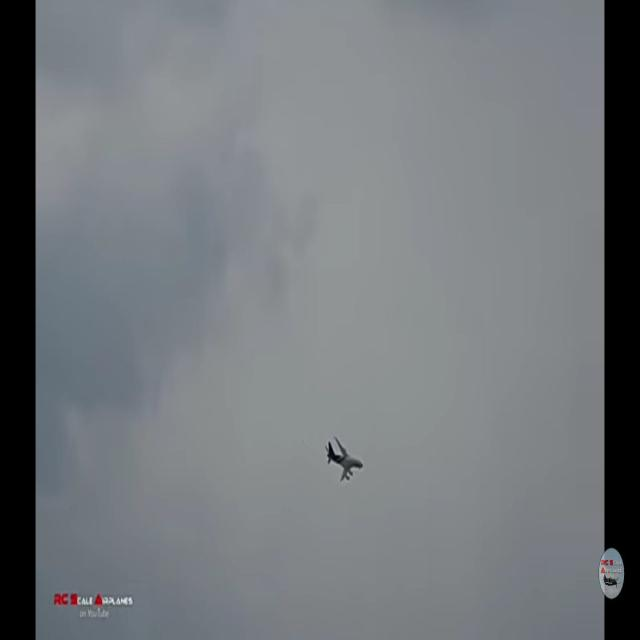iha: (324, 426, 364, 478)
